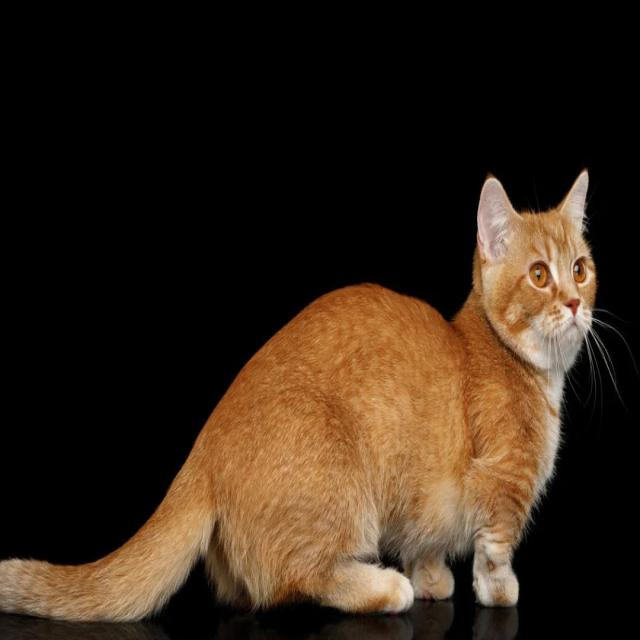Munchkin: (0, 161, 601, 627)
